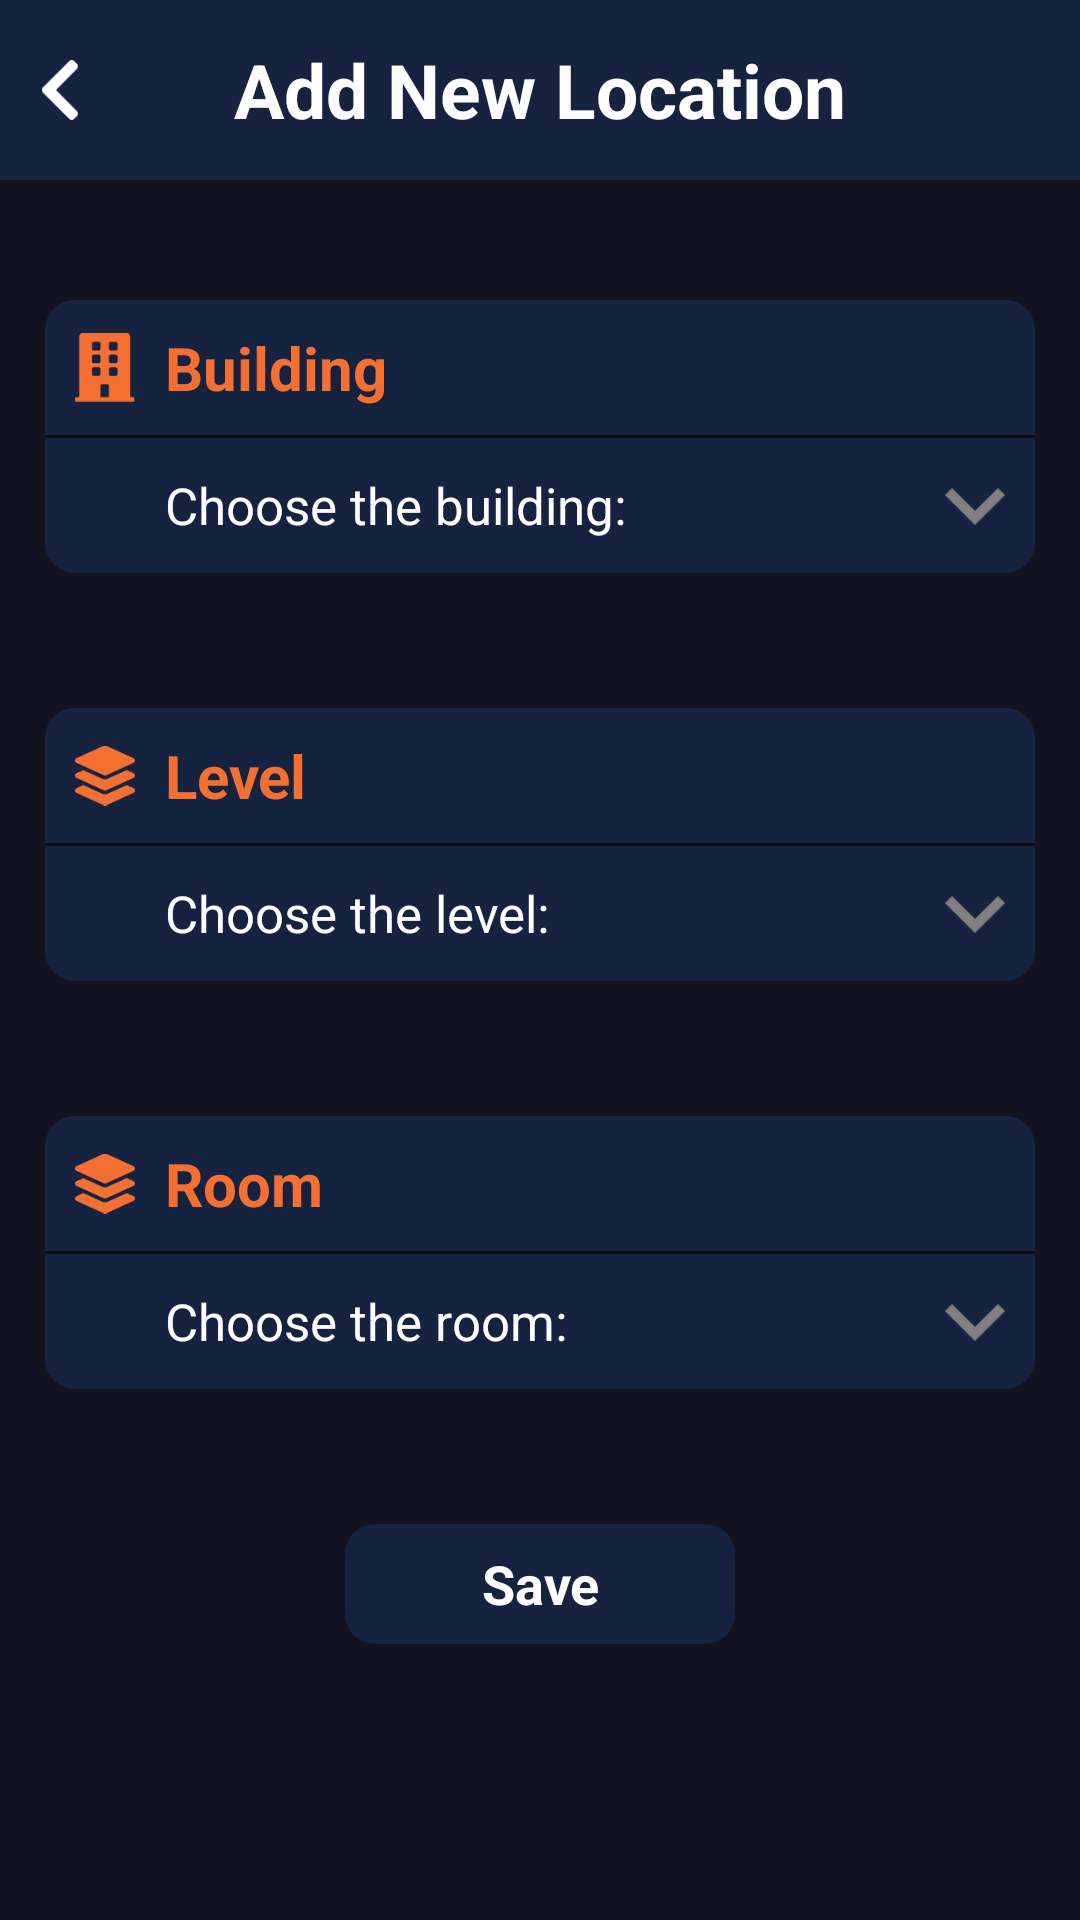

Screen size 1080*1920. Icon name, then its center in pixels as (x,y):
back: (60,90)
down arrow: (975,506), (975,914), (975,1322)
